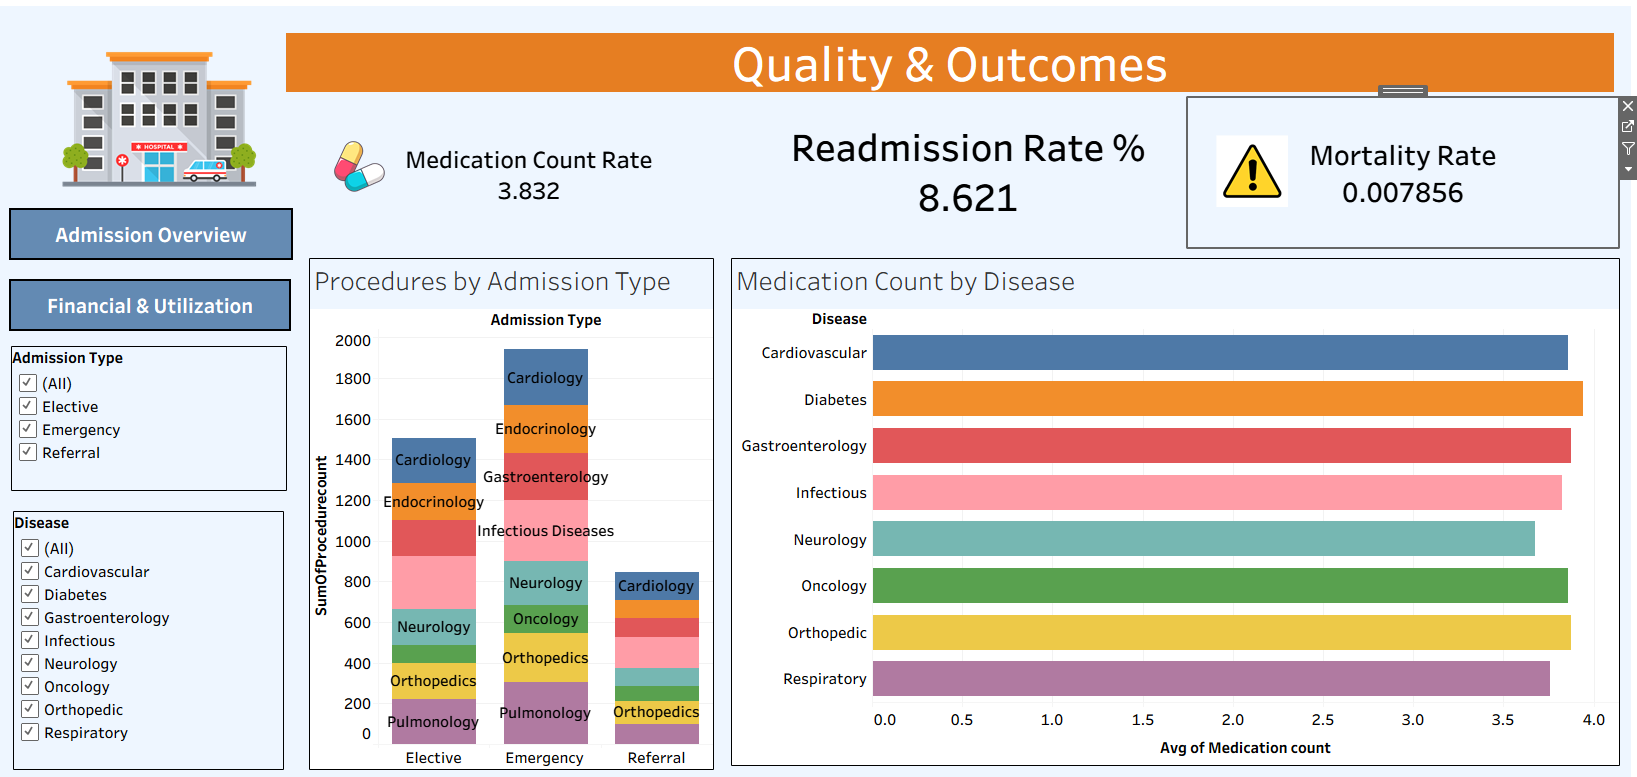

The page's visual inventory and layout, read from the dashboard file:
{"tool":"tableau","page":{"name":"Quality & Outcomes","canvas":[1000,1000],"units":"permille","ordinal":2},"visuals":[{"type":"blank","box":[4.8,10,990.3,980]},{"type":"image","param":"Image/Hos.png","box":[21.7,28.7,166,254.7]},{"type":"text","box":[181.1,48.7,801.5,73.7]},{"type":"worksheet","title":"Readmission KPI","mark":"Automatic","box":[453.8,129.8,277.6,184.8]},{"type":"worksheet","title":"Mortality Rate KPI","mark":"Automatic","box":[725.4,129.8,259.5,186]},{"type":"worksheet","title":"Sheet 22","mark":"Automatic","box":[194.9,138.6,265.5,173.5]},{"type":"image","param":"Image/Medicin.png","box":[196.7,174.8,56.7,79.9]},{"type":"image","param":"Image/warning.png","box":[741.7,176,45.3,89.9]},{"type":"dashboard-object","box":[13.9,267.2,171.4,64.9]},{"type":"worksheet","title":"Procedures by Admission Type","mark":"Automatic","rows":["Calculation_1845631465318707207"],"cols":["AdmissionType"],"box":[194.9,329.6,244.4,639.2]},{"type":"worksheet","title":"Medication Count by Disease","mark":"Automatic","rows":["Disease"],"cols":["Calculation_1845631465319501832"],"box":[449.6,329.6,536.5,634.2]},{"type":"dashboard-object","box":[13.9,355.8,170.2,64.9]},{"type":"filter","title":"Procedures by Admission Type","param":"[federated.0m547v80owgjkv1568xne0q3zldo].[none:AdmissionType:nk]","box":[15.1,439.4,166.6,181]},{"type":"filter","title":"Medication Count by Disease","param":"[federated.0m547v80owgjkv1568xne0q3zldo].[none:Disease:nk]","box":[16.3,645.4,163.6,323.4]}]}

Visuals, with their boxes on the dashboard's canvas, which has no fixed pixel size, in thousandths of its width and height (x1, y1, x2, y2). These are canvas units, not pixel positions in the 1637x777 screenshot, which may show the page scaled, cropped or inside an application window:
blank: <box>5,10,995,990</box>
image: <box>22,29,188,283</box>
text: <box>181,49,983,122</box>
"Readmission KPI" worksheet: <box>454,130,731,315</box>
"Mortality Rate KPI" worksheet: <box>725,130,985,316</box>
"Sheet 22" worksheet: <box>195,139,460,312</box>
image: <box>197,175,253,255</box>
image: <box>742,176,787,266</box>
dashboard-object: <box>14,267,185,332</box>
"Procedures by Admission Type" worksheet: <box>195,330,439,969</box>
"Medication Count by Disease" worksheet: <box>450,330,986,964</box>
dashboard-object: <box>14,356,184,421</box>
"Procedures by Admission Type" filter: <box>15,439,182,620</box>
"Medication Count by Disease" filter: <box>16,645,180,969</box>
